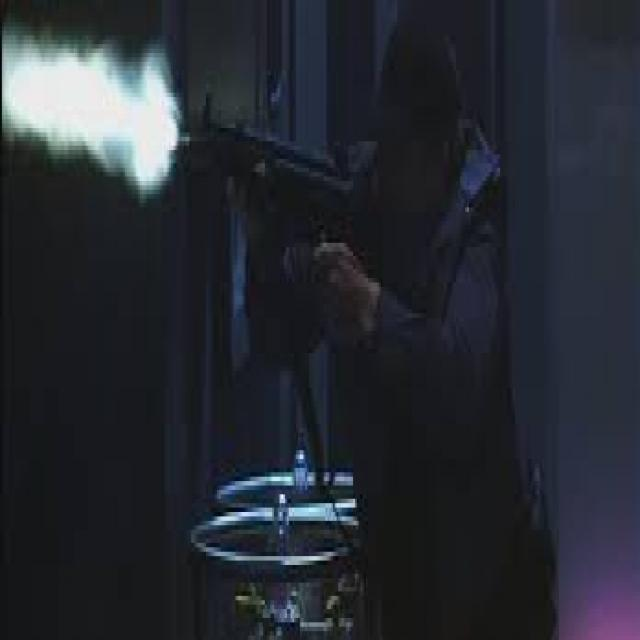Rifle: (161, 90, 377, 252)
